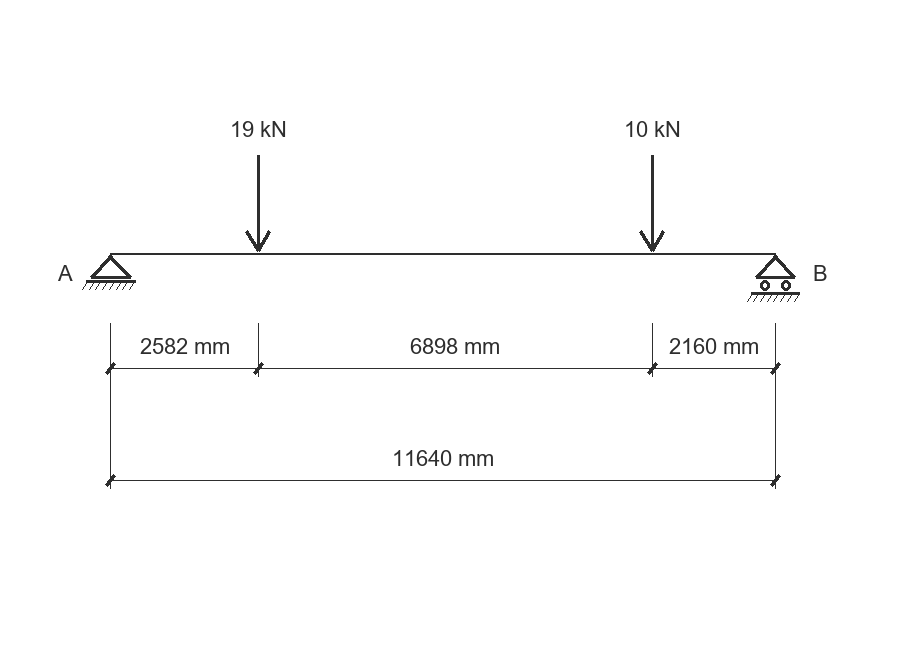pin_support: (82, 255, 136, 290)
point_load: (245, 155, 271, 252), (639, 155, 665, 252)
roller_support: (747, 255, 800, 302)
